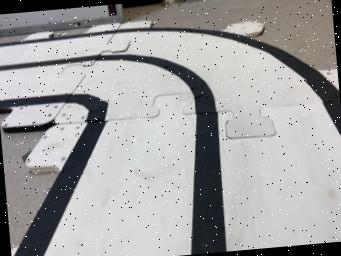street: (0, 26, 341, 256), (0, 26, 341, 256), (0, 26, 341, 256)
